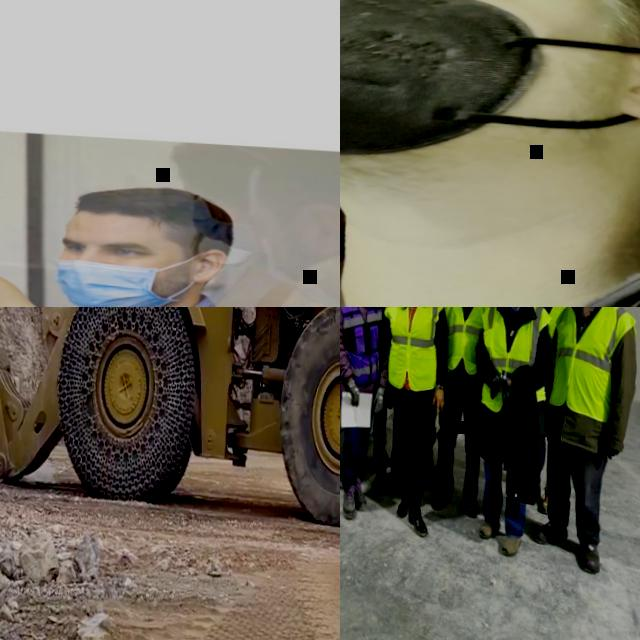machinery: (0, 307, 340, 533)
mask: (340, 0, 640, 183), (54, 256, 163, 307), (190, 198, 252, 248), (250, 243, 307, 291)
no_helmet: (66, 180, 235, 246), (254, 148, 340, 206), (162, 142, 246, 188)
no_vest: (340, 244, 640, 307)
person: (340, 0, 640, 307), (0, 174, 340, 307), (524, 307, 640, 576), (463, 307, 565, 561), (371, 307, 455, 538), (425, 307, 509, 517), (246, 150, 340, 307), (340, 307, 399, 522), (519, 307, 576, 516), (361, 307, 416, 494), (174, 142, 276, 241), (414, 307, 470, 473), (351, 307, 393, 466)
vest: (545, 307, 639, 424), (476, 307, 554, 414), (379, 307, 450, 394), (433, 307, 504, 377), (340, 307, 387, 386), (526, 307, 572, 340)
